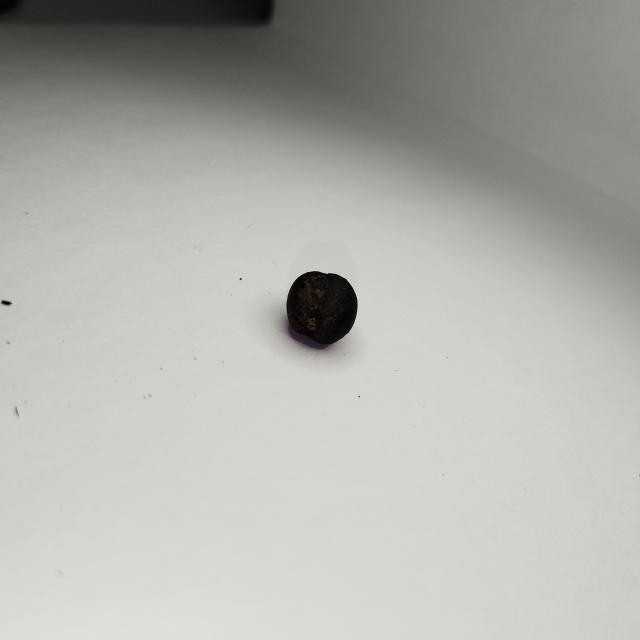Danado: (287, 272, 358, 349)
